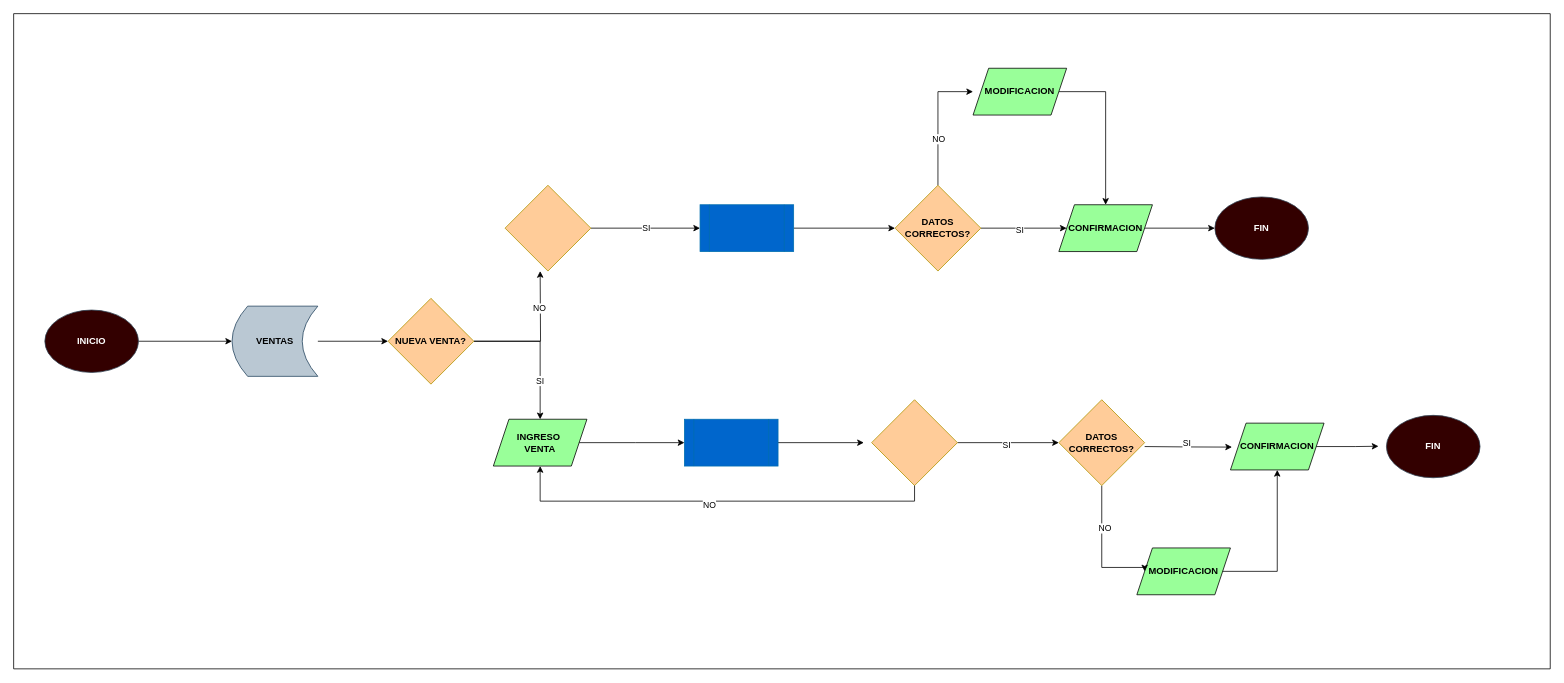
The diagram is 1564 pixels wide and 683 high, and some of its shapes have lost their labels. Here are the shapes that lost their labels. From the top down, the box of each, then its label:
(504, 184, 591, 271): CARGA AUTOMATICA?
(699, 204, 794, 252): CARGA POR OCR
(684, 418, 778, 466): COMANDA
(871, 399, 957, 486): COMANDA COMPLETA?
